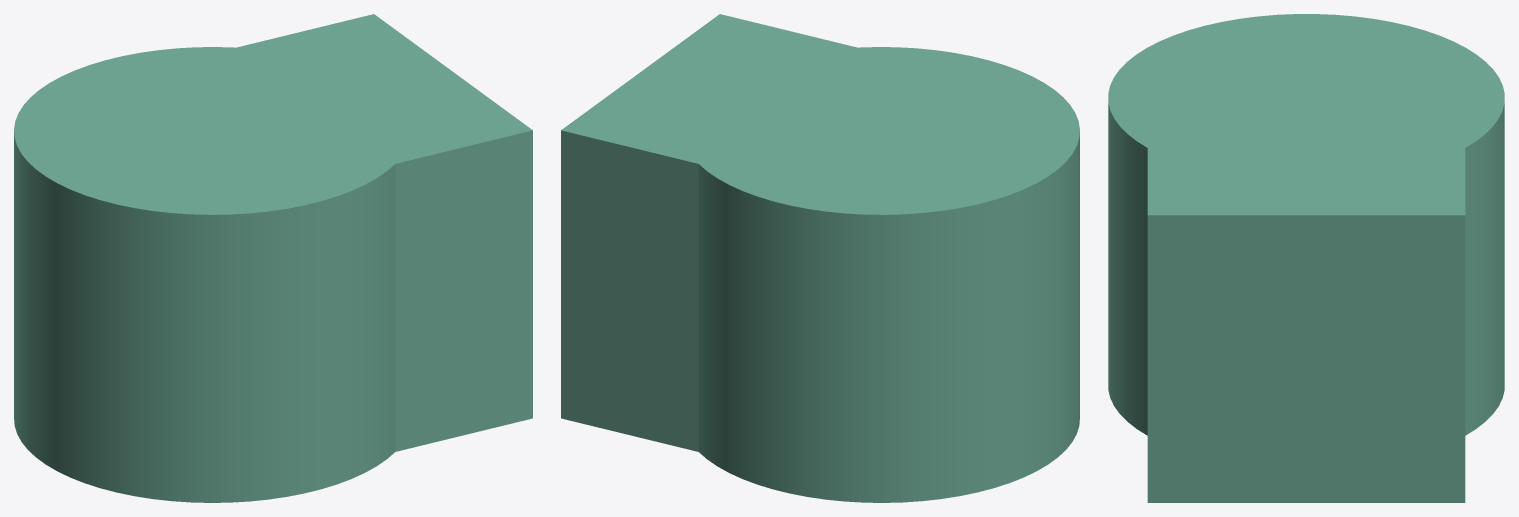
File: step_01.glb
The picture shows the model from 3 angles, left to right: view 1: azimuth 30°, elevation 25°; view 2: azimuth 150°, elevation 25°; view 3: azimuth 270°, elevation 25°; orthographic projection.
Visible parts, largest first — view 1: part__actuator body; view 2: part__actuator body; view 3: part__actuator body.
Part boxes in pixels (x1,y1,x2,y2): part__actuator body: [14, 14, 532, 502]; part__actuator body: [561, 14, 1079, 502]; part__actuator body: [1108, 14, 1504, 502].
Size of the model in its own units: 120 by 80 by 99.9.
